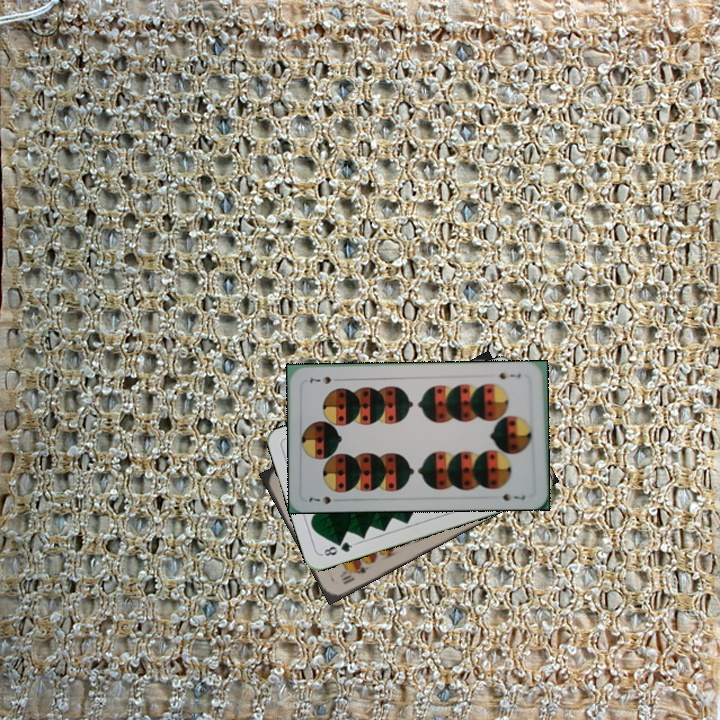E10: (337, 560, 371, 587)
G8: (318, 538, 358, 559)
S7: (305, 492, 334, 506), (495, 368, 523, 382)
